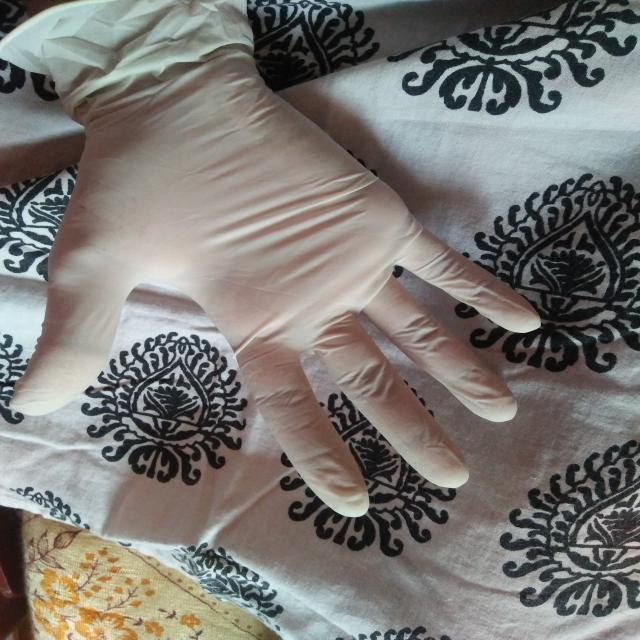gloved_hand: (4, 3, 549, 530)
